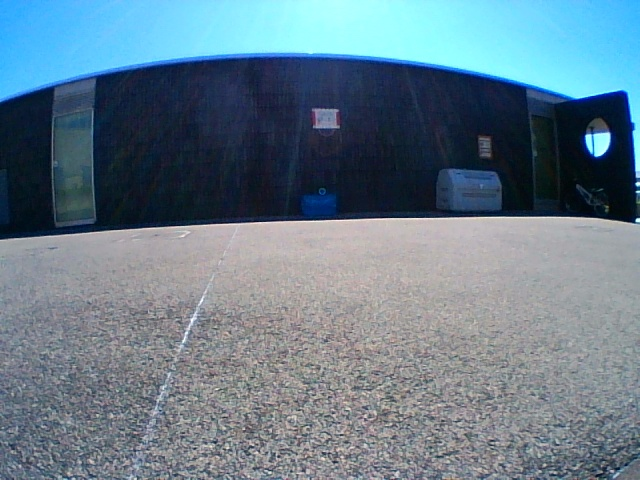blue_box: (301, 196, 336, 218)
